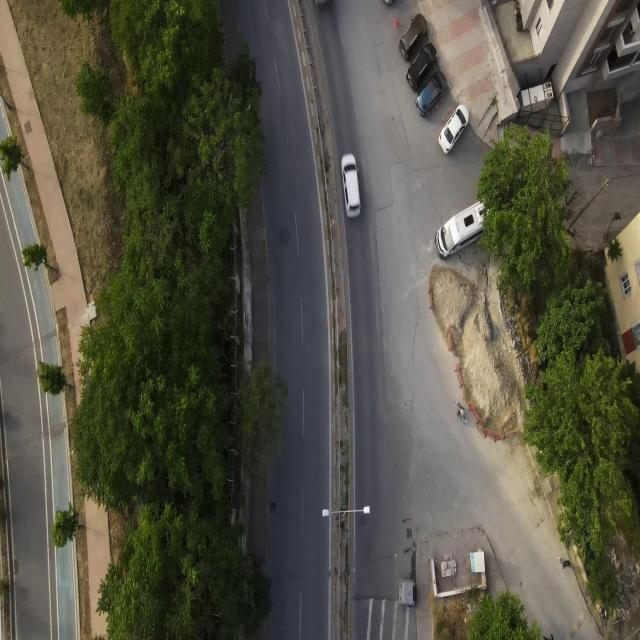p3rson: (557, 555, 571, 570)
